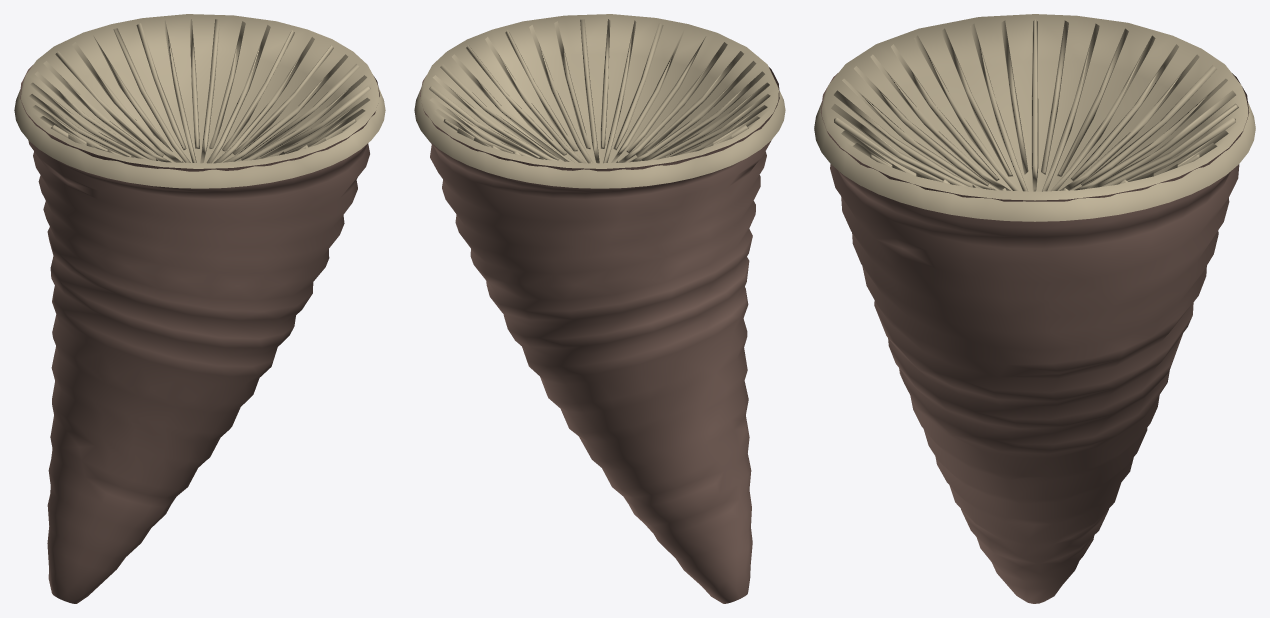
Rendered from solitary-rugose-coral-v2.lod1.glb.
The picture shows the model from 3 angles, left to right: view 1: azimuth 30°, elevation 25°; view 2: azimuth 150°, elevation 25°; view 3: azimuth 270°, elevation 25°; orthographic projection. The views are drawn at different scales.
Visible parts, largest first — view 1: solitary-rugose-coral-v2; view 2: solitary-rugose-coral-v2; view 3: solitary-rugose-coral-v2.
Boxes of the visible parts, x1,y1,x2,y2 form: solitary-rugose-coral-v2: [14, 14, 385, 603]; solitary-rugose-coral-v2: [414, 14, 785, 603]; solitary-rugose-coral-v2: [814, 14, 1255, 603].
Size of the model in its own units: 0.0713 by 0.1022 by 0.0713.
